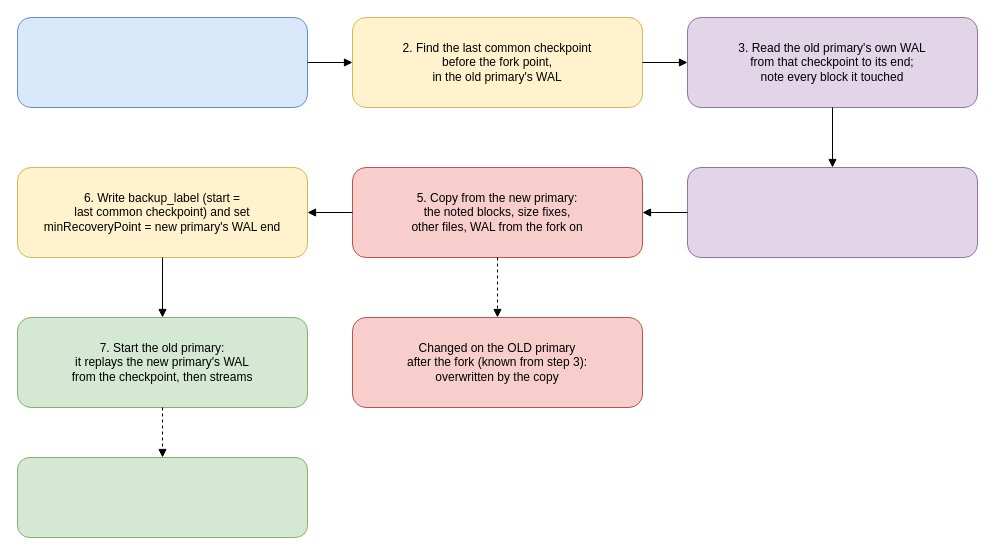
This 995x555 diagram has some shape labels left out. The shapes that lost their labels are listed below. From the top down, each one's centre as x and y in pixels, then its label:
point (162, 62): 1. Find the fork point compare the timeline histories of the old and new primary
point (832, 212): 4. Compare file lists new primary vs old primary, decide an action per file
point (162, 497): Changed on the NEW primary after the fork: applied by the WAL replay in step 7
